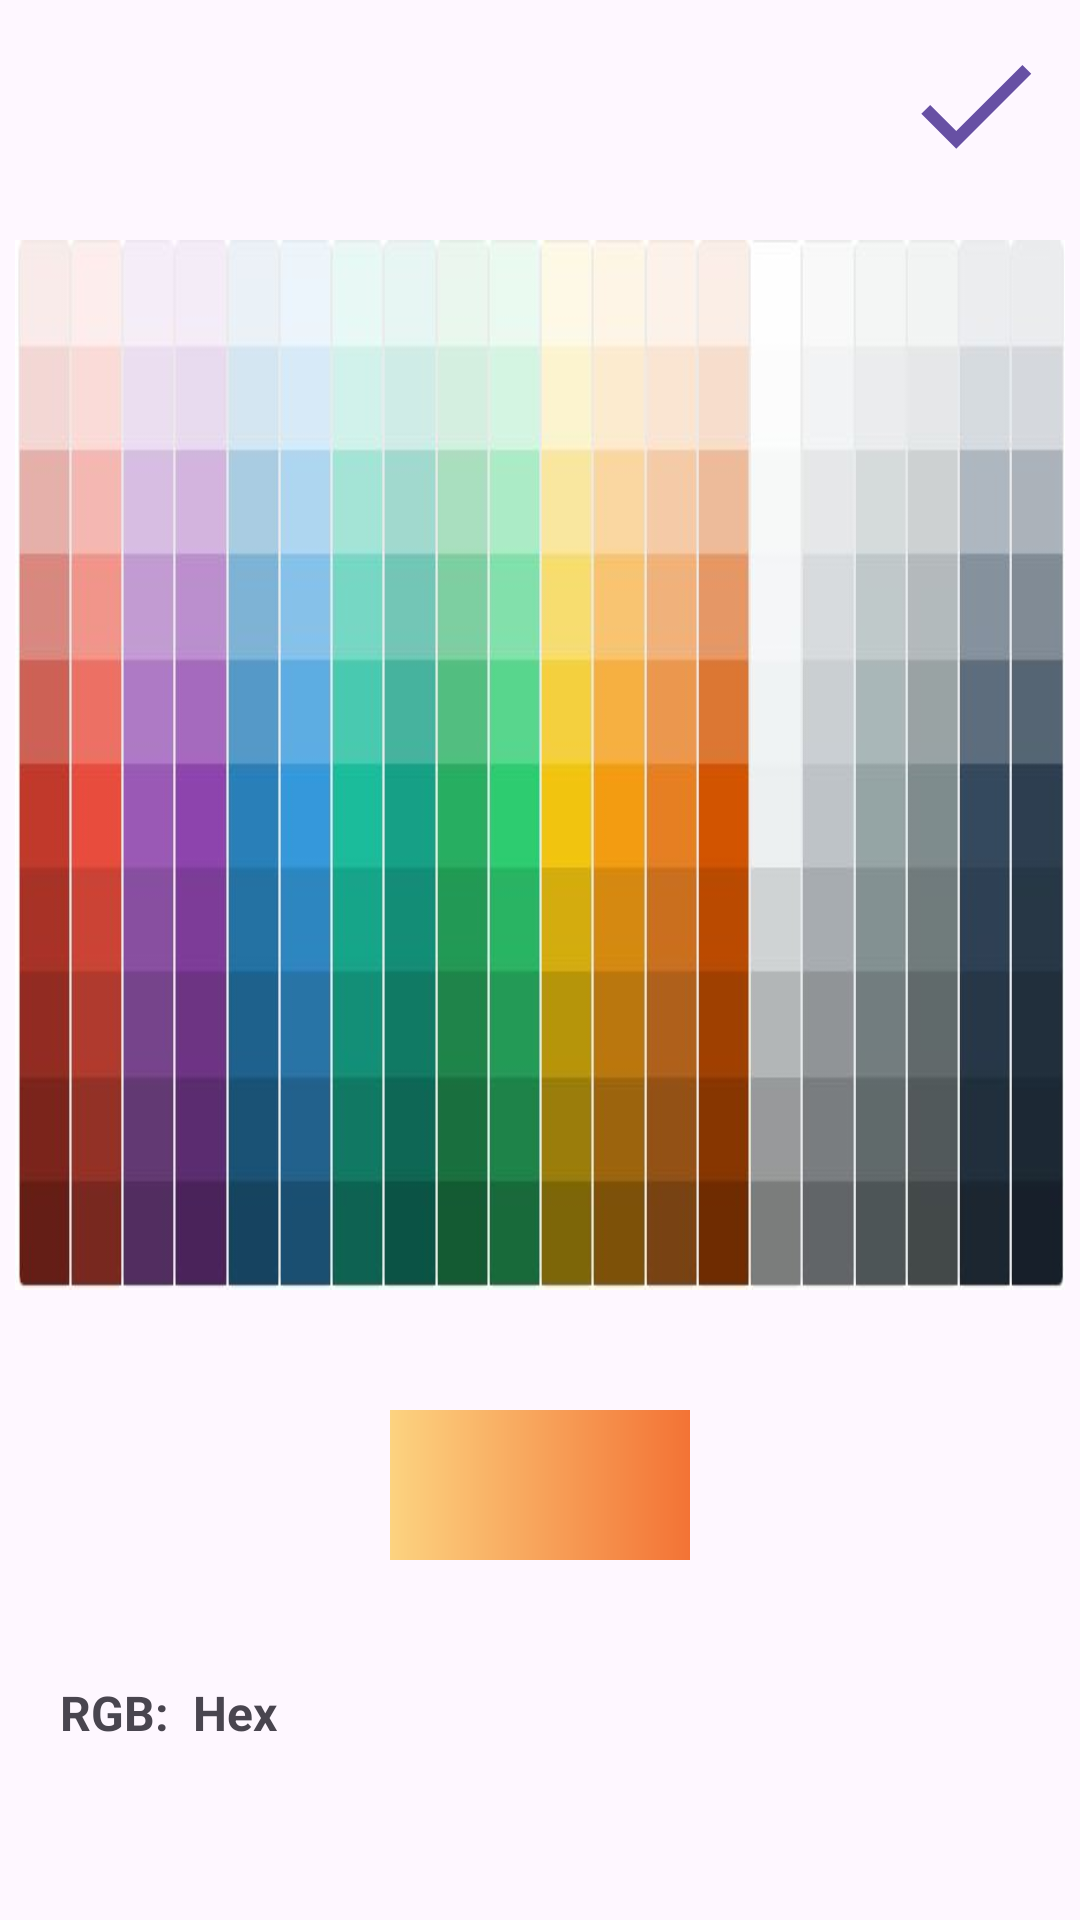

Icon click points for this 1080*1920 phone screenshot, format [x,y]:
check: [976,107]
